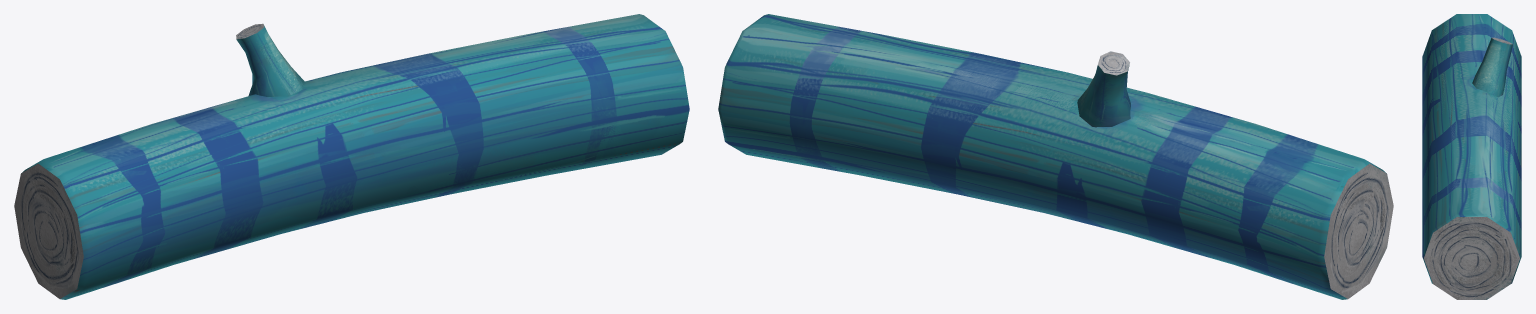
File: log.fbx
3 views of the same model, side by side, from view 1: azimuth 30°, elevation 25°; view 2: azimuth 150°, elevation 25°; view 3: azimuth 270°, elevation 25° (orthographic). The views are drawn at different scales.
Parts seen in each view (by area): view 1: zooshi_log01; view 2: zooshi_log01; view 3: zooshi_log01.
Part boxes in pixels (x1,y1,x2,y2): zooshi_log01: [14, 14, 689, 299]; zooshi_log01: [718, 14, 1393, 299]; zooshi_log01: [1422, 14, 1521, 299].
Bounding box in the file's own units: 7.29 × 2.27 × 1.51.
